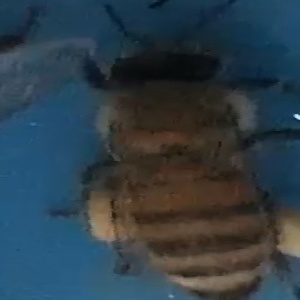bee: (82, 20, 300, 299)
